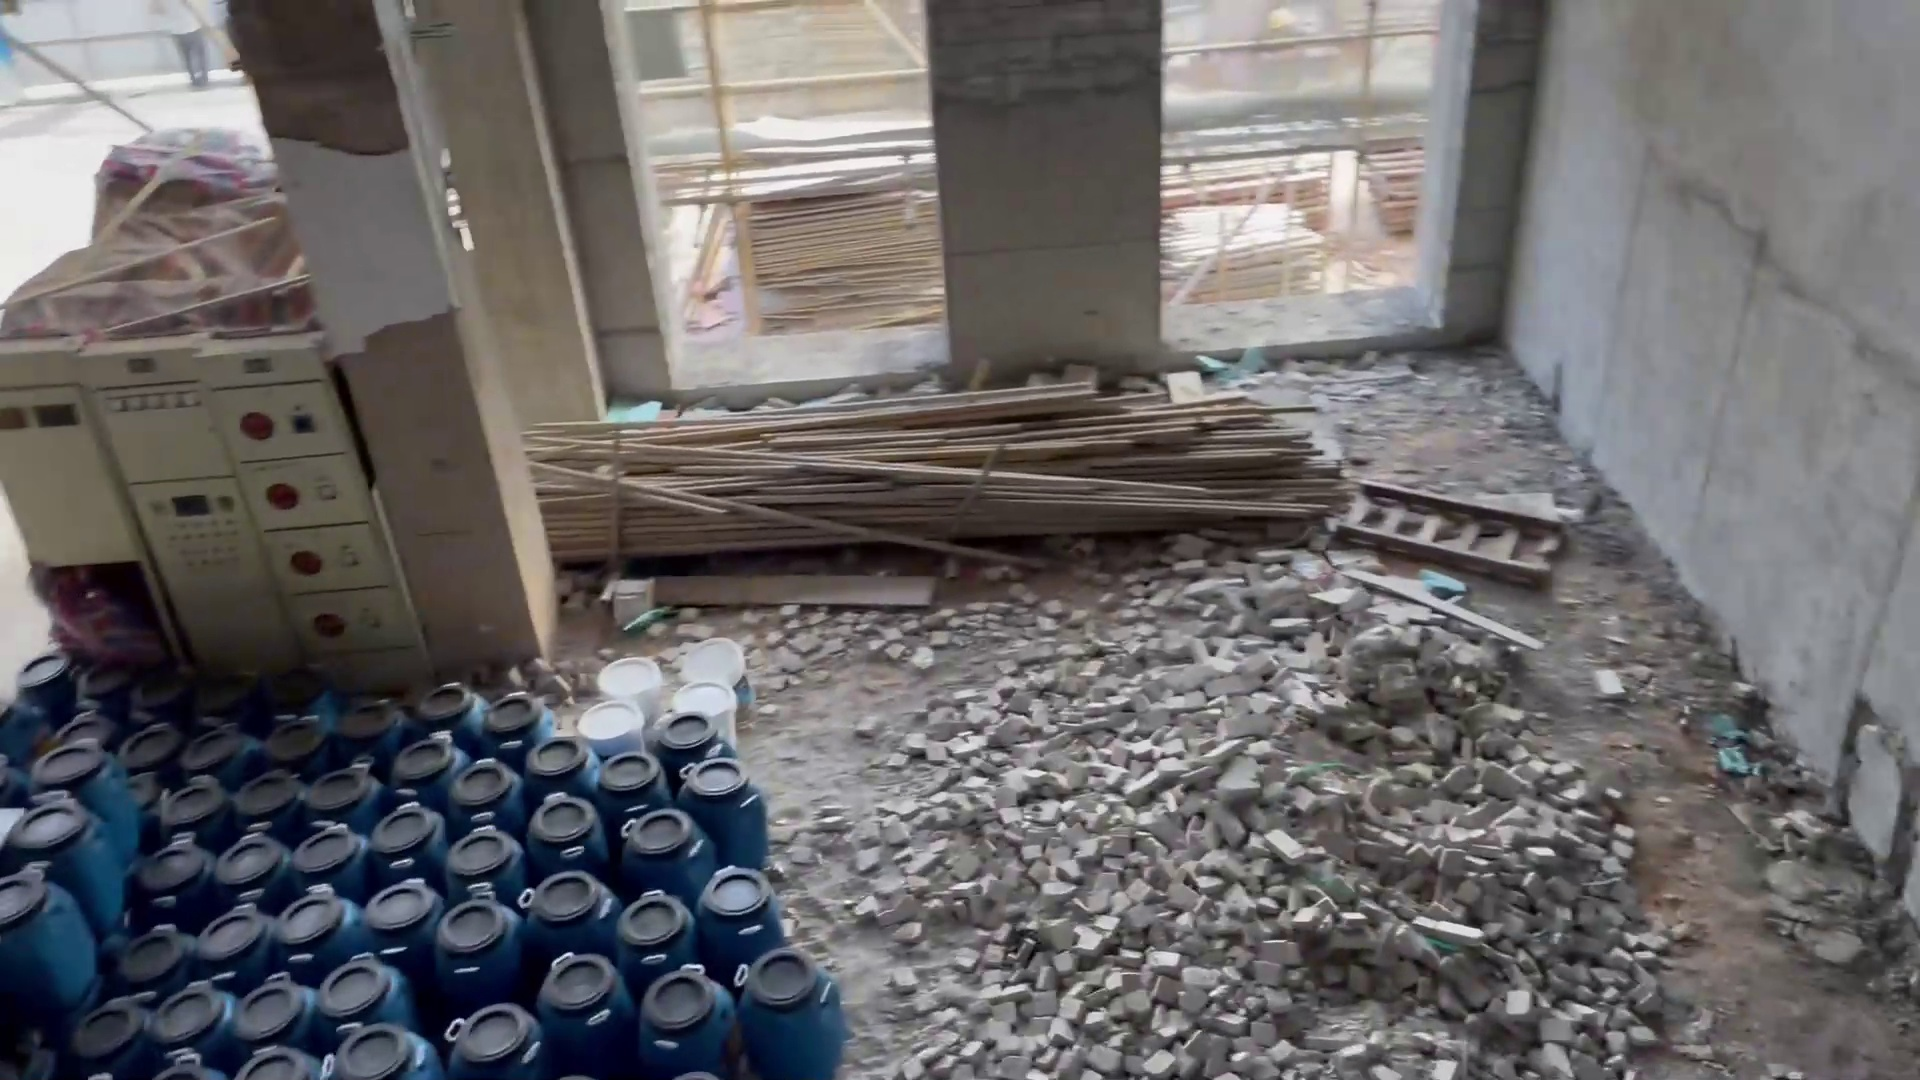board: (706, 188, 954, 328)
helmet: (1265, 10, 1291, 34)
person: (136, 2, 217, 92)
wood: (521, 391, 1350, 539), (1155, 213, 1321, 290)
